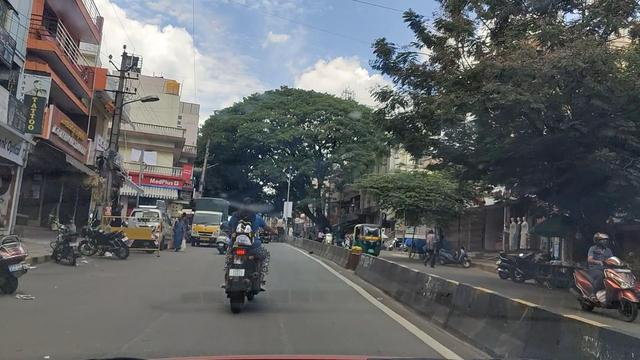LMV: (229, 200, 276, 318)
RoadDamages: (112, 269, 190, 360)
